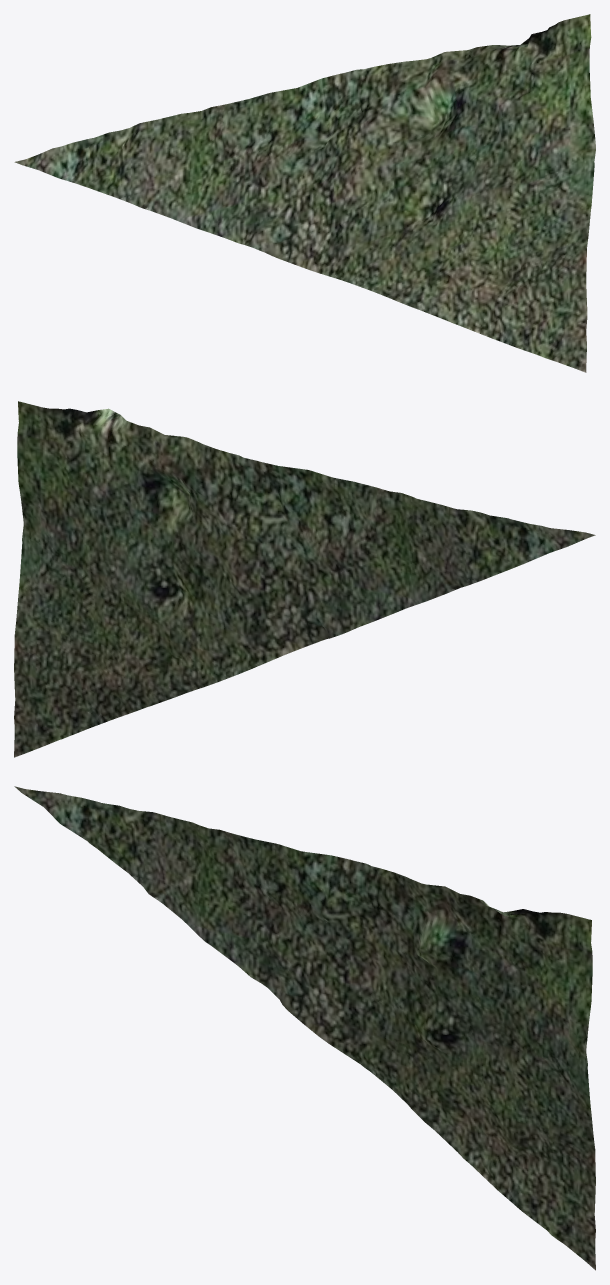
File: Tile_17.fbx
The picture shows the model from 3 angles, top to bottom: view 1: azimuth 30°, elevation 25°; view 2: azimuth 150°, elevation 25°; view 3: azimuth 330°, elevation 25°; orthographic projection. The views are drawn at different scales.
Visible parts, largest first — view 1: DefaultName; view 2: DefaultName; view 3: DefaultName.
Boxes of the visible parts, x1,y1,x2,y2 form: DefaultName: (14,14,595,372); DefaultName: (14,401,595,757); DefaultName: (14,786,595,1270).
Bounding box in the file's own units: 3.47 × 2.05 × 0.233.
1 material, 1 textured.
